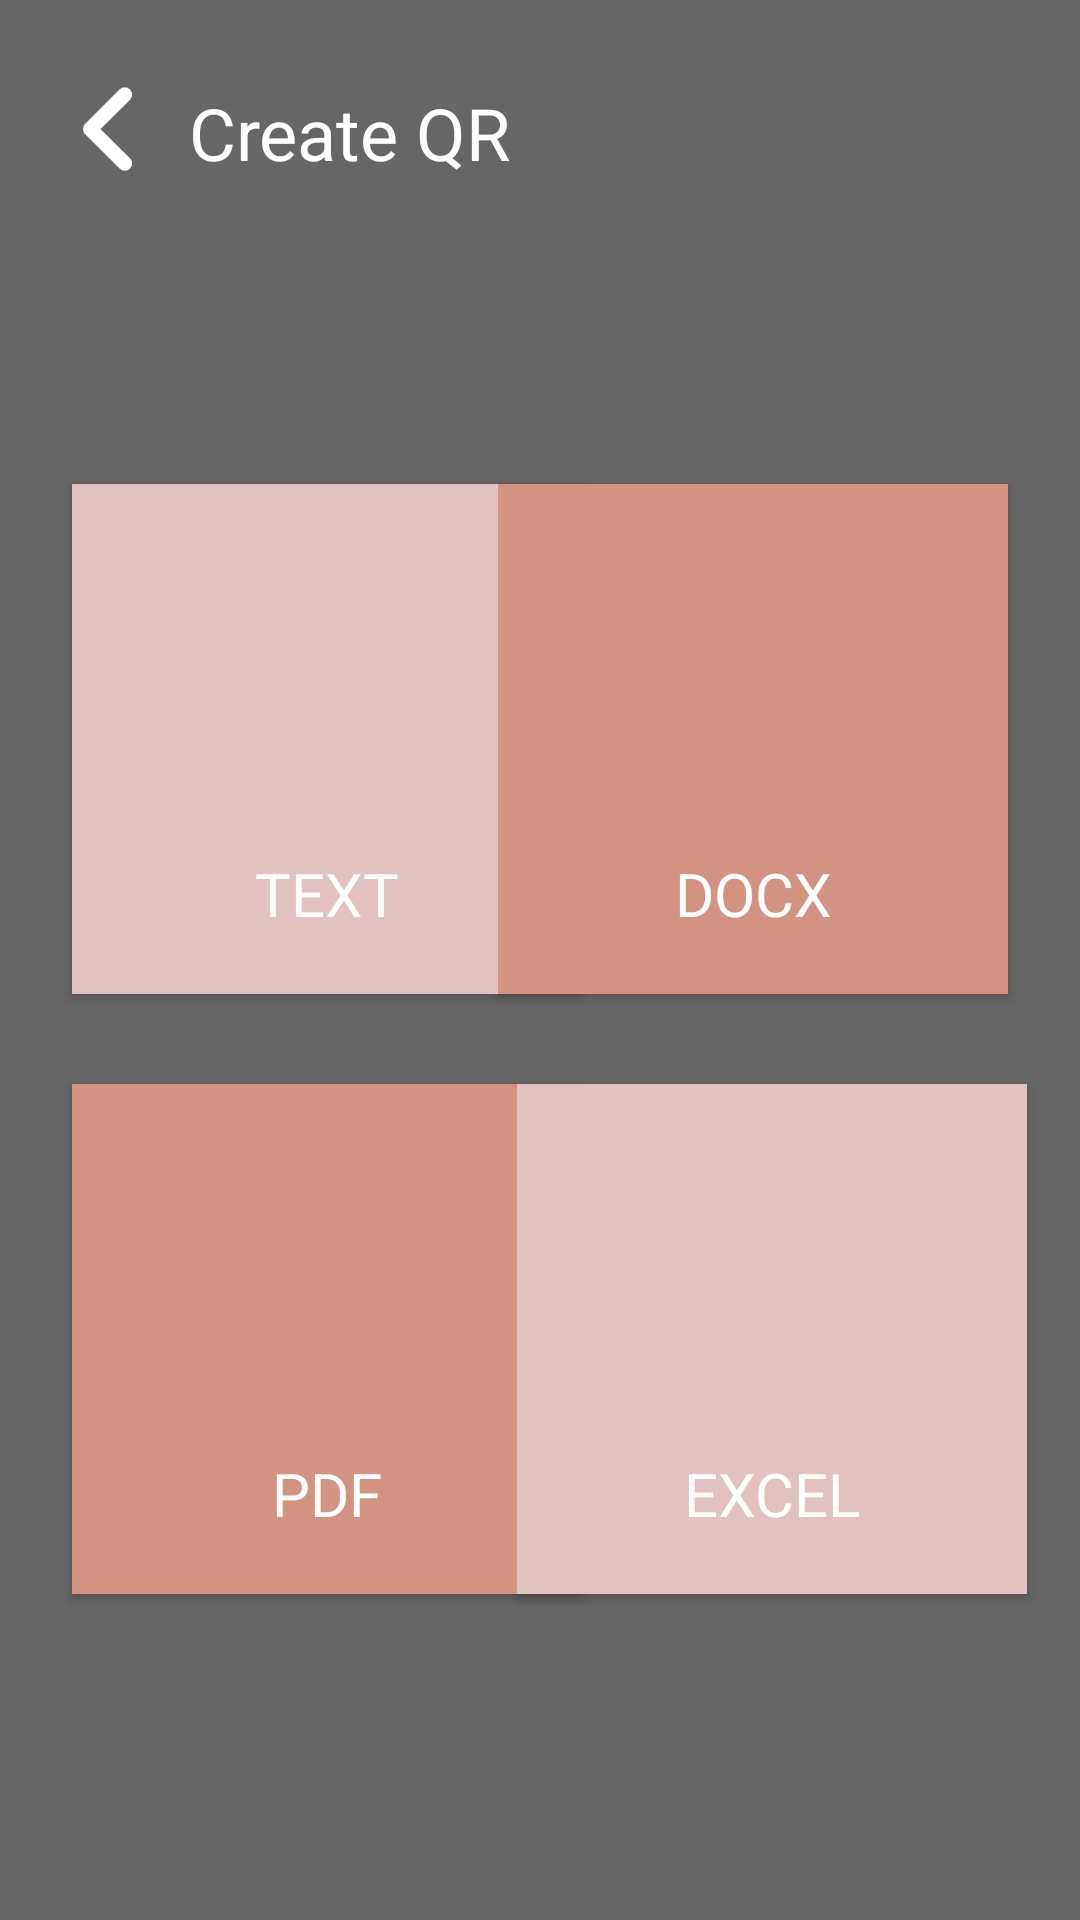

Icons on this 1080 x 1920 Android screen, each with the point to tap as (x=x, y=y):
back: (x=107, y=129)
